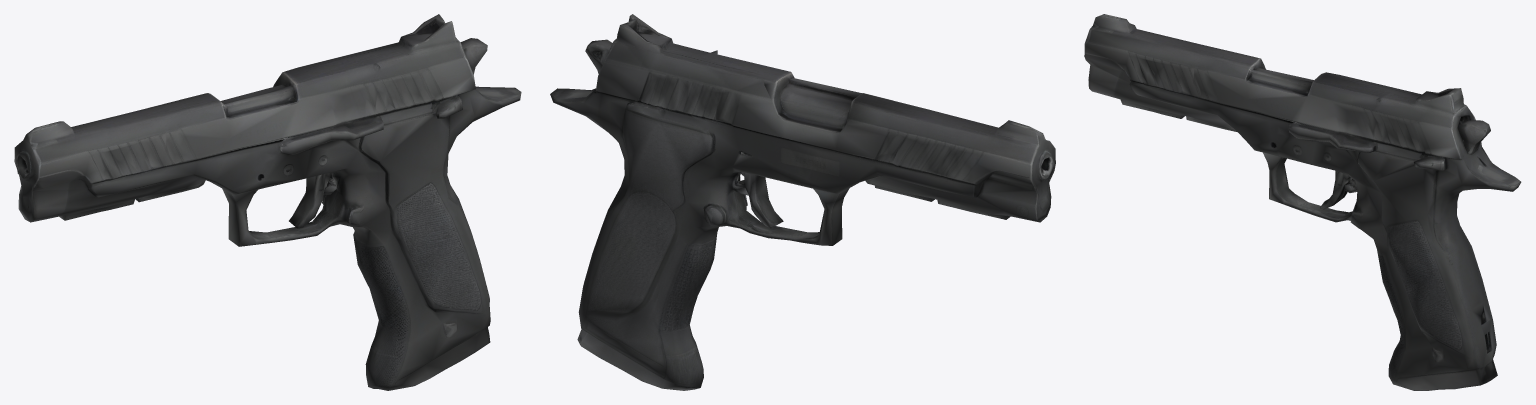
Rendered from Gun.fbx.
3 renders of one model, left to right at view 1: azimuth 30°, elevation 25°; view 2: azimuth 150°, elevation 25°; view 3: azimuth 330°, elevation 25°, orthographic. The views are drawn at different scales.
Parts seen in each view (by area): view 1: Mesh_0; view 2: Mesh_0; view 3: Mesh_0.
Boxes of the visible parts, left/top/right/bottom form: Mesh_0: left=14, top=14, right=521, bottom=390; Mesh_0: left=550, top=14, right=1055, bottom=390; Mesh_0: left=1084, top=14, right=1521, bottom=390.
Bounding box in the file's own units: 200 × 136 × 27.78.
1 material, 1 textured.
